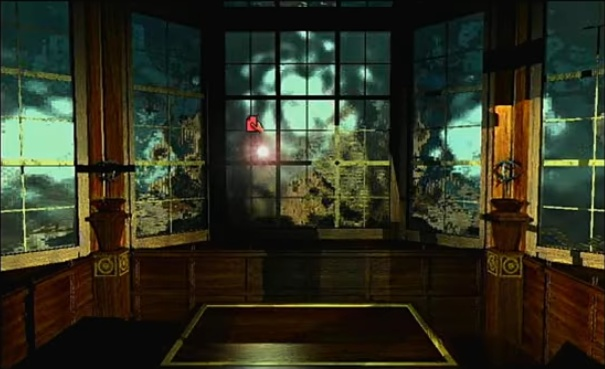Keep: (244, 112, 268, 135)
